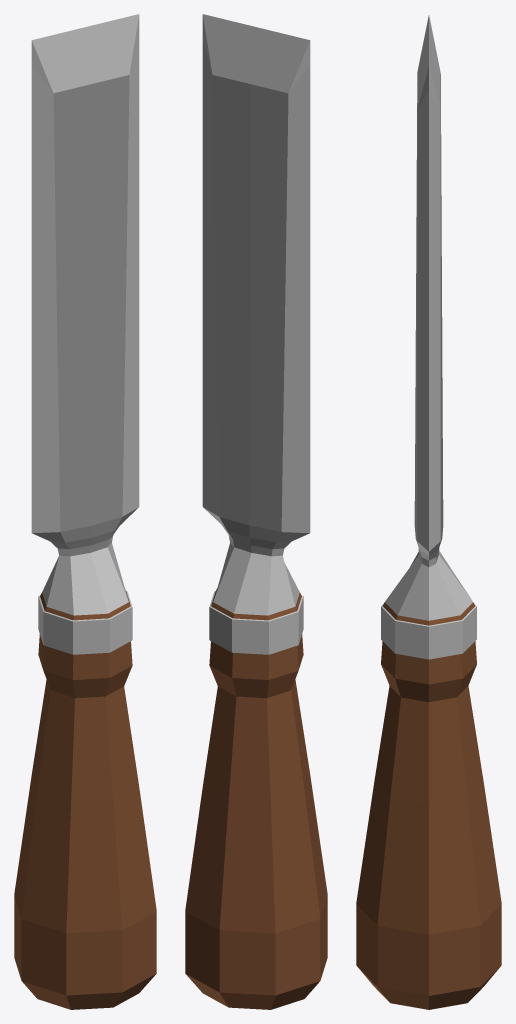
The model's file is chisel01.obj.
The picture shows the model from 3 angles, left to right: view 1: azimuth 30°, elevation 25°; view 2: azimuth 150°, elevation 25°; view 3: azimuth 270°, elevation 25°; orthographic projection.
Visible parts, largest first — view 1: Cylinder_Cylinder.002; view 2: Cylinder_Cylinder.002; view 3: Cylinder_Cylinder.002.
Part boxes in pixels (bbox=[...]): Cylinder_Cylinder.002: bbox=[14, 14, 156, 1009]; Cylinder_Cylinder.002: bbox=[185, 14, 327, 1009]; Cylinder_Cylinder.002: bbox=[356, 15, 501, 1009].
Size of the model in its own units: 0.0303 by 0.2175 by 0.0303.
Materials: 1 (1 with a texture image).
